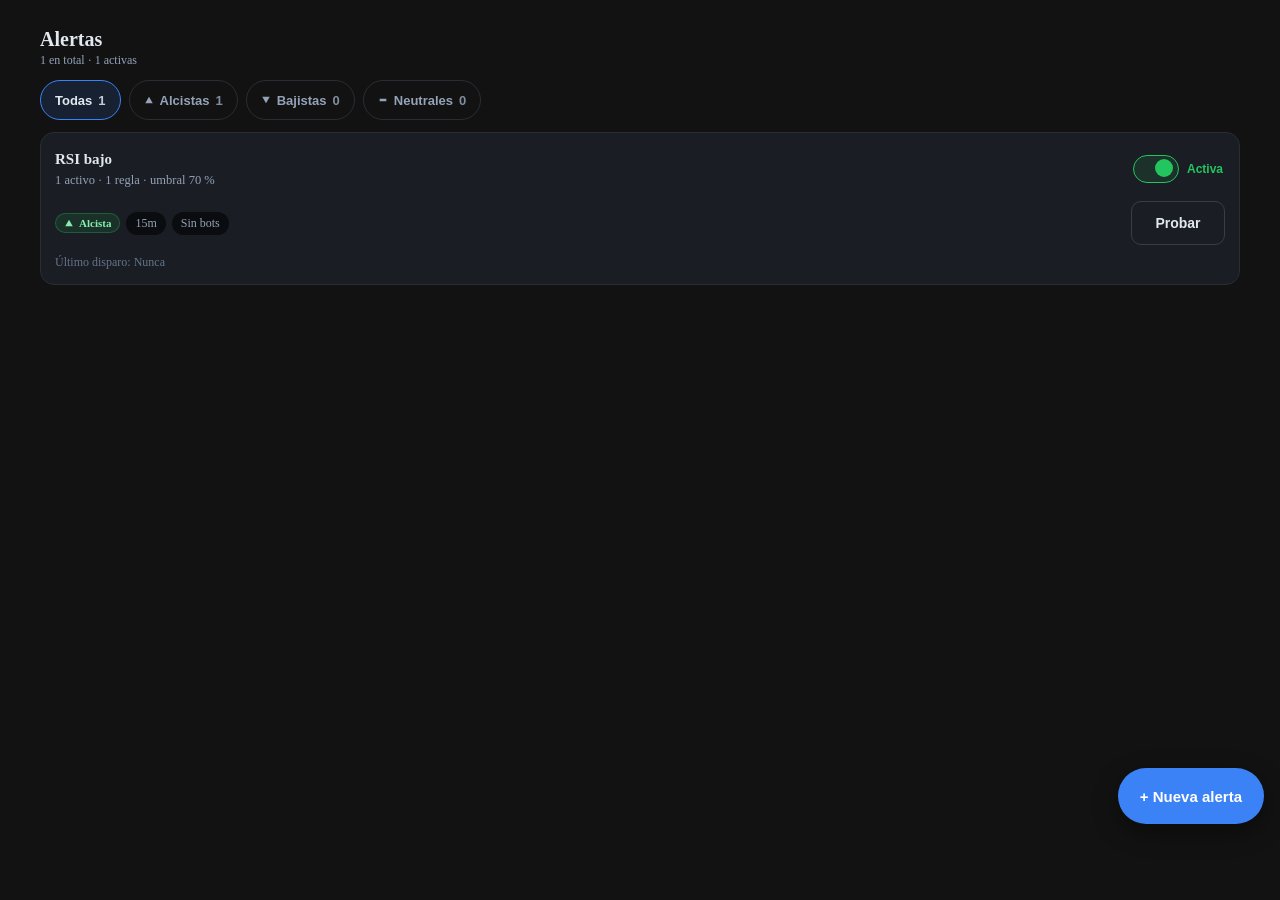
Test case: AlertsPage · lista móvil › Probar usa dryRun y muestra la hoja
This screenshot has width=1280, height=900.
Click the button "Probar": (1178, 223) [1131, 201, 1225, 245]
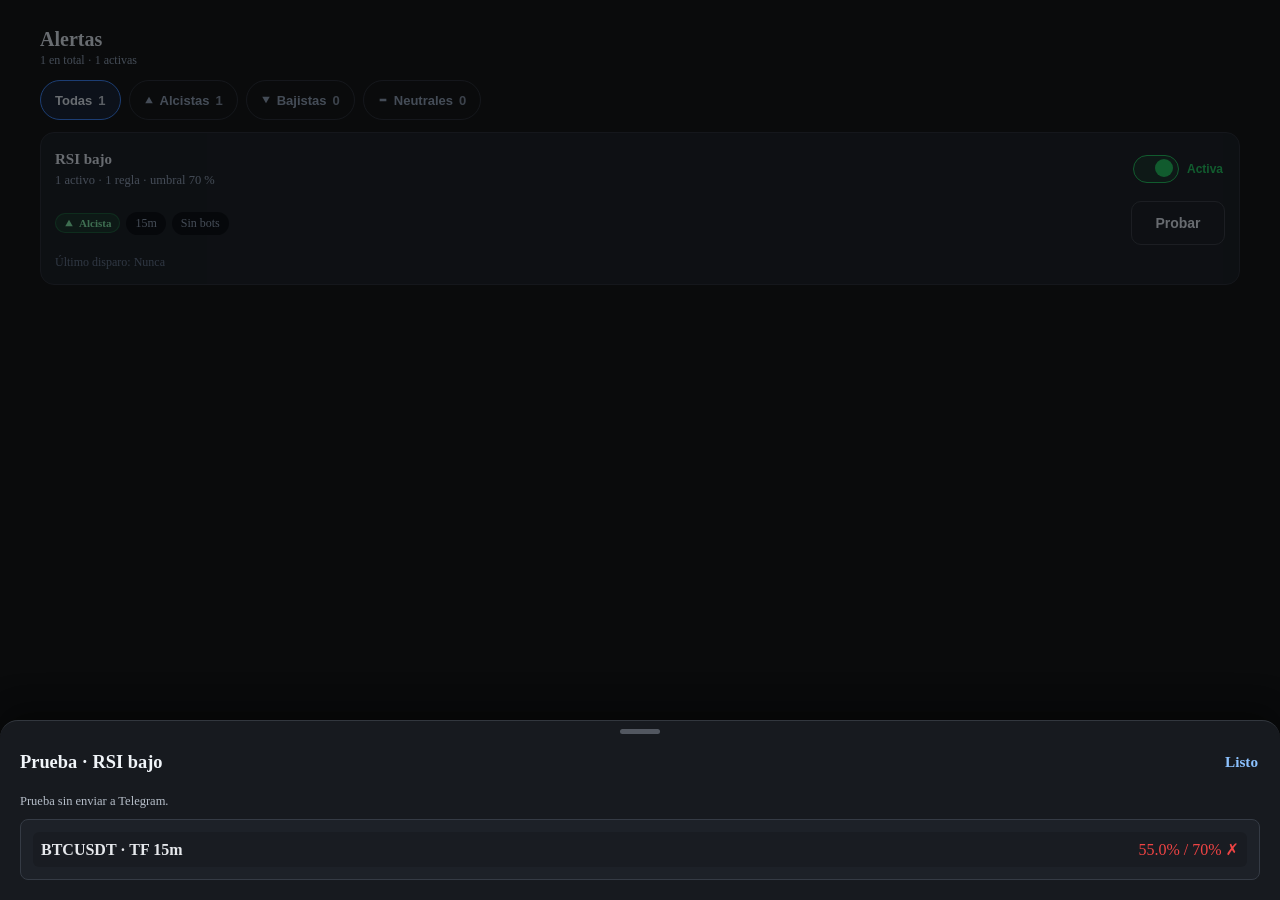
Result: the text "55.0% / 70% ✗" is shown at [1138, 840, 1239, 859]
